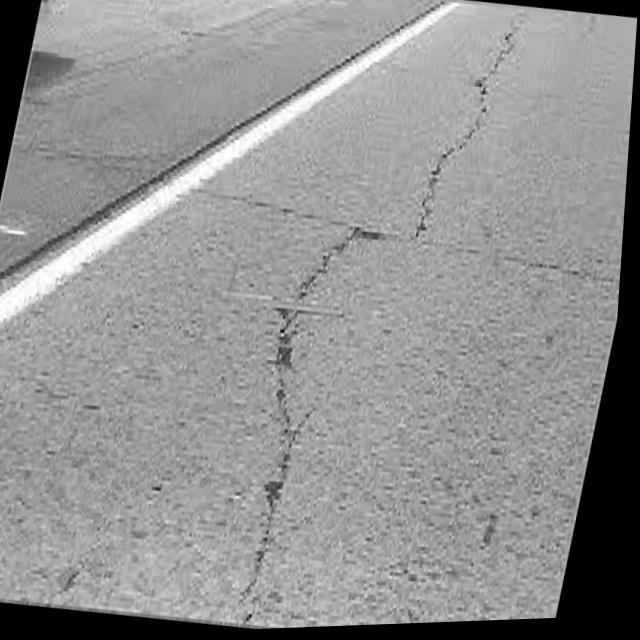Crack: (231, 240, 346, 606), (410, 37, 511, 269)
